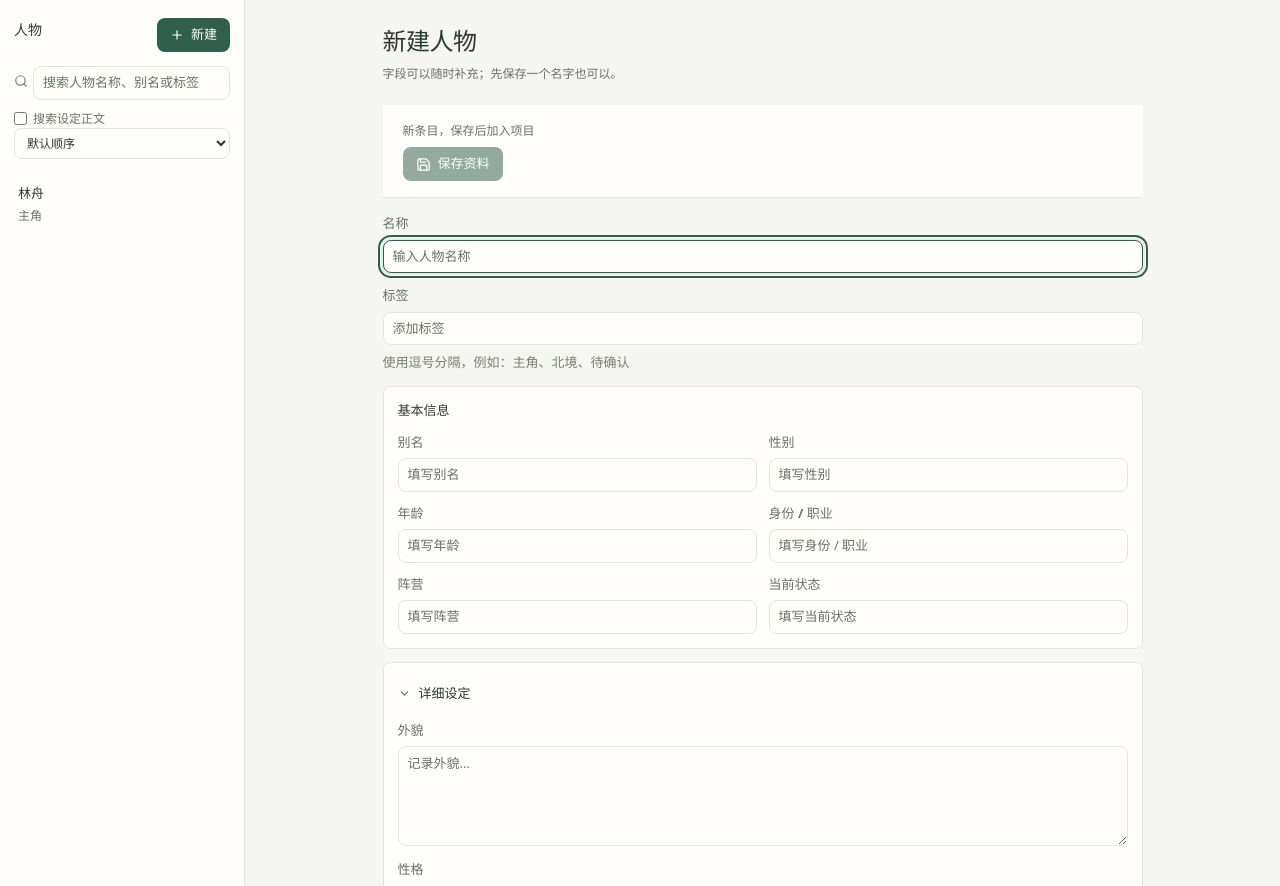
shows alias matches and lets the user expand the scope to settings with visible context
In the field labelled "搜索人物": (132, 83) x1=33 y1=66 x2=230 y2=100, type "渡鸦"
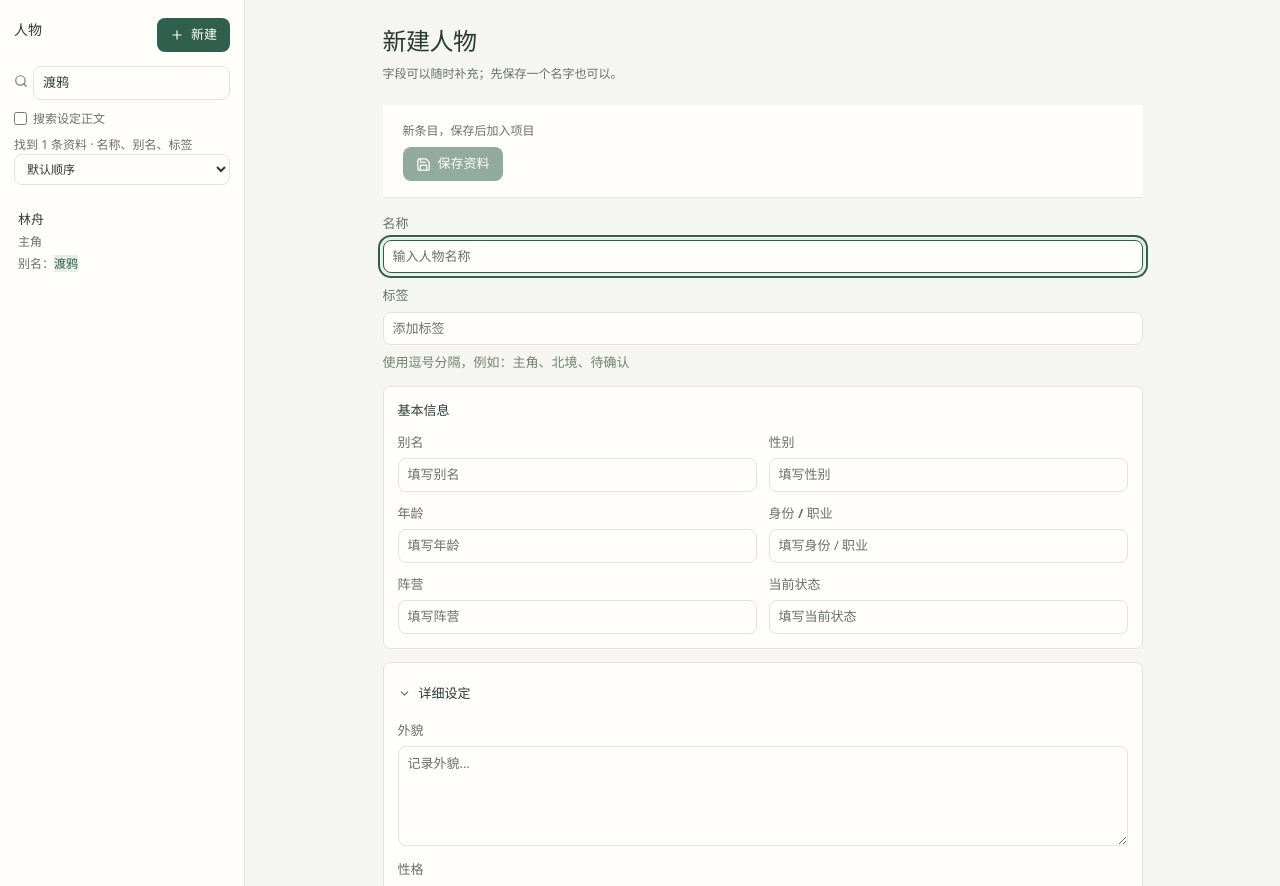
Expected: the button "林舟 主角 别名：渡鸦" is shown, x1=8 y1=200 x2=236 y2=283
Expected: the text "渡鸦" is shown, x1=54 y1=255 x2=78 y2=272
Replace the text in the field named "搜索人物" with "守夜人": (132, 83) x1=33 y1=66 x2=230 y2=100
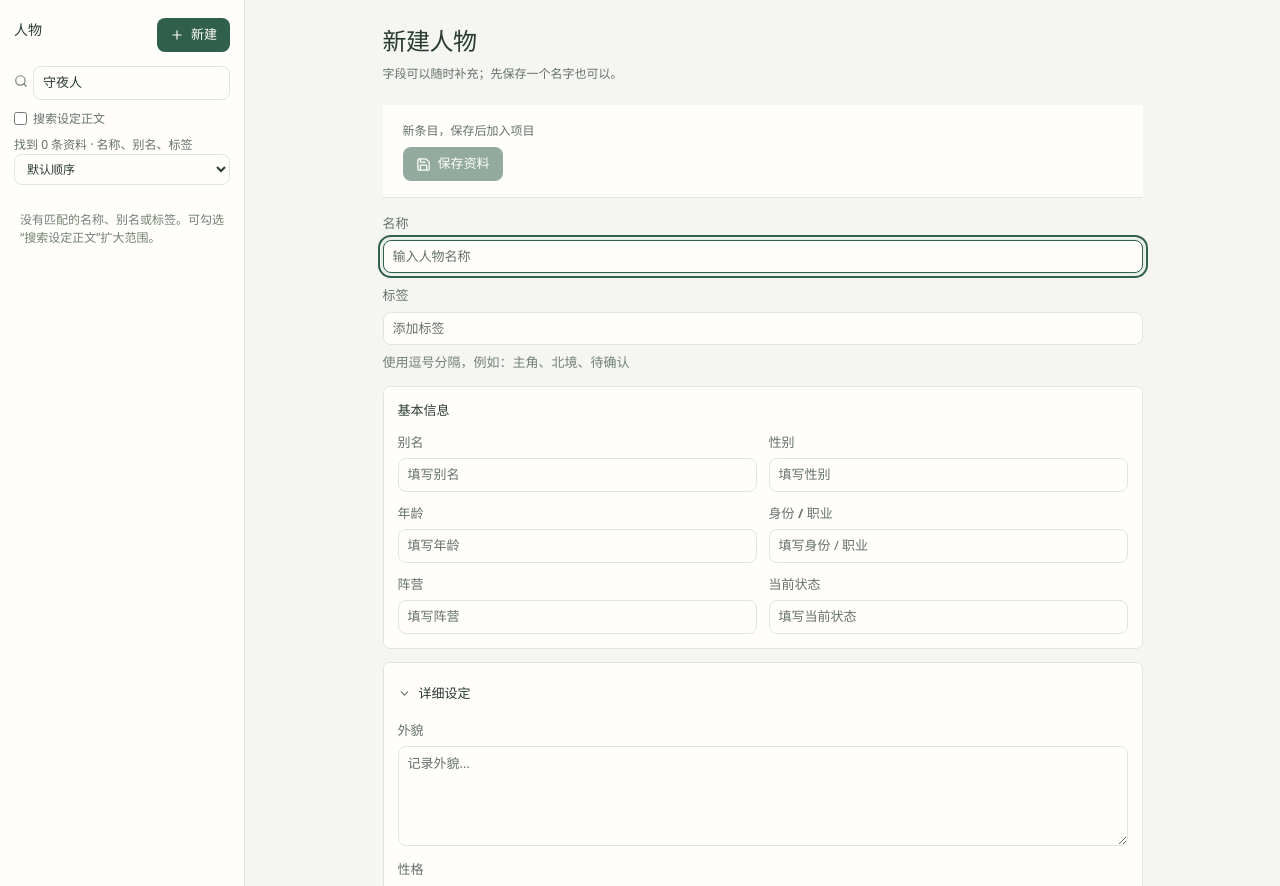
Expected: the button "林舟" is gone
Expected: the text "找到 0 条资料 · 名称、别名、标签" is shown, x1=14 y1=136 x2=193 y2=152
Click the checkbox labelled "搜索设定正文": (20, 118) x1=14 y1=112 x2=27 y2=125
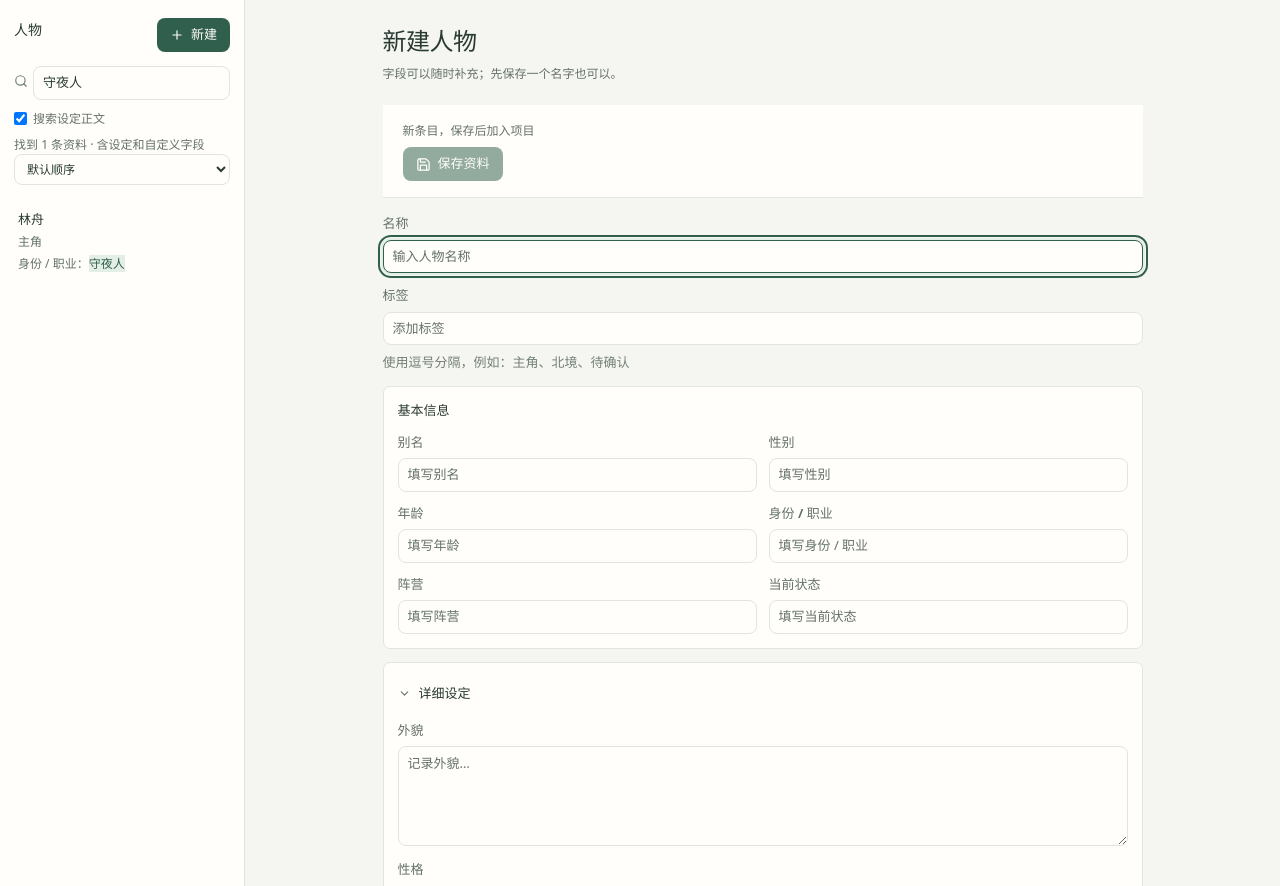
Expected: the button "林舟 主角 身份 / 职业：守夜人" is shown, x1=8 y1=200 x2=236 y2=283
Expected: the text "找到 1 条资料 · 含设定和自定义字段" is shown, x1=14 y1=136 x2=230 y2=154
